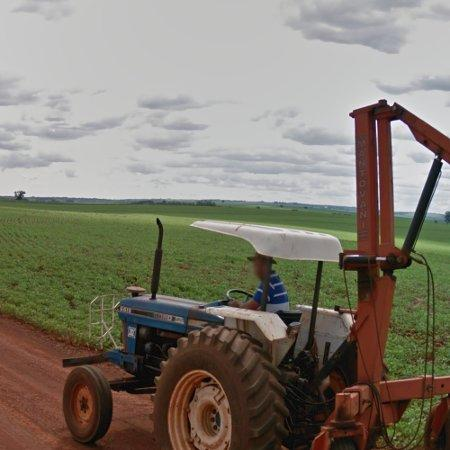tractors: (63, 100, 450, 450)
